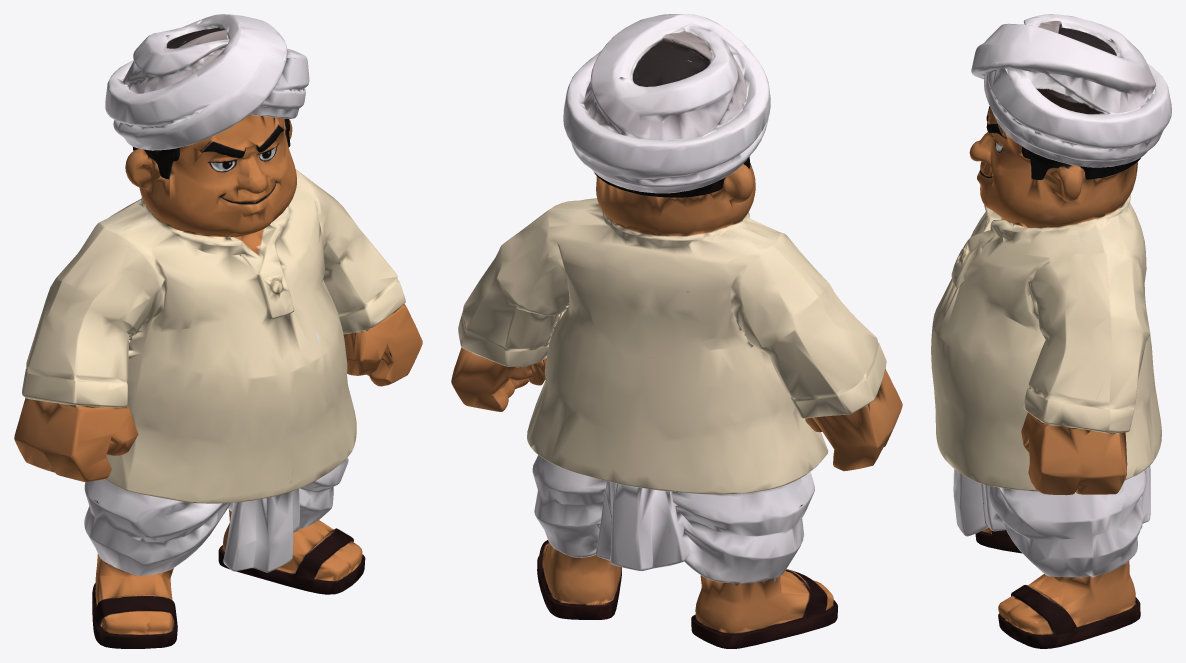
The model's file is Arbang.glb.
The picture shows the model from 3 angles, left to right: view 1: azimuth 30°, elevation 25°; view 2: azimuth 150°, elevation 25°; view 3: azimuth 270°, elevation 25°; orthographic projection. The views are drawn at different scales.
Parts seen in each view (by area): view 1: output_unwrapped; view 2: output_unwrapped; view 3: output_unwrapped.
Boxes of the visible parts, x1,y1,x2,y2 form: output_unwrapped: [14, 14, 422, 648]; output_unwrapped: [451, 14, 902, 648]; output_unwrapped: [931, 14, 1171, 648].
Bounding box in the file's own units: 1.39 × 1.9 × 0.7379.
Materials: 1 (1 with a texture image).
